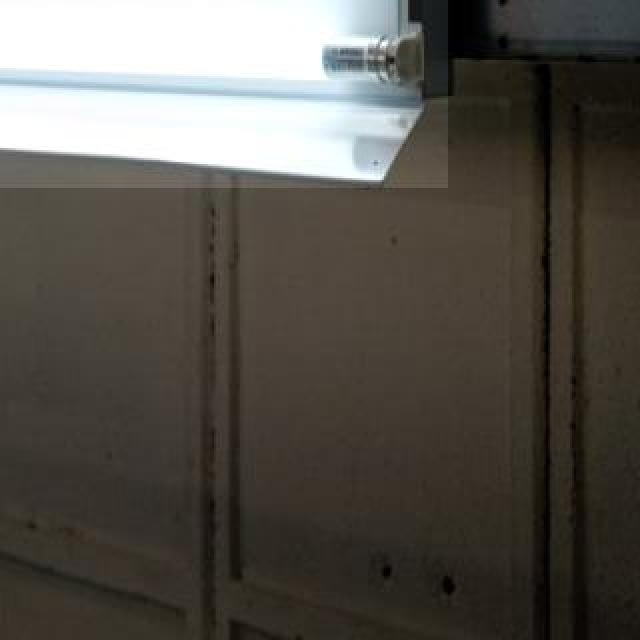fluorescent tube: (0, 4, 460, 100)
